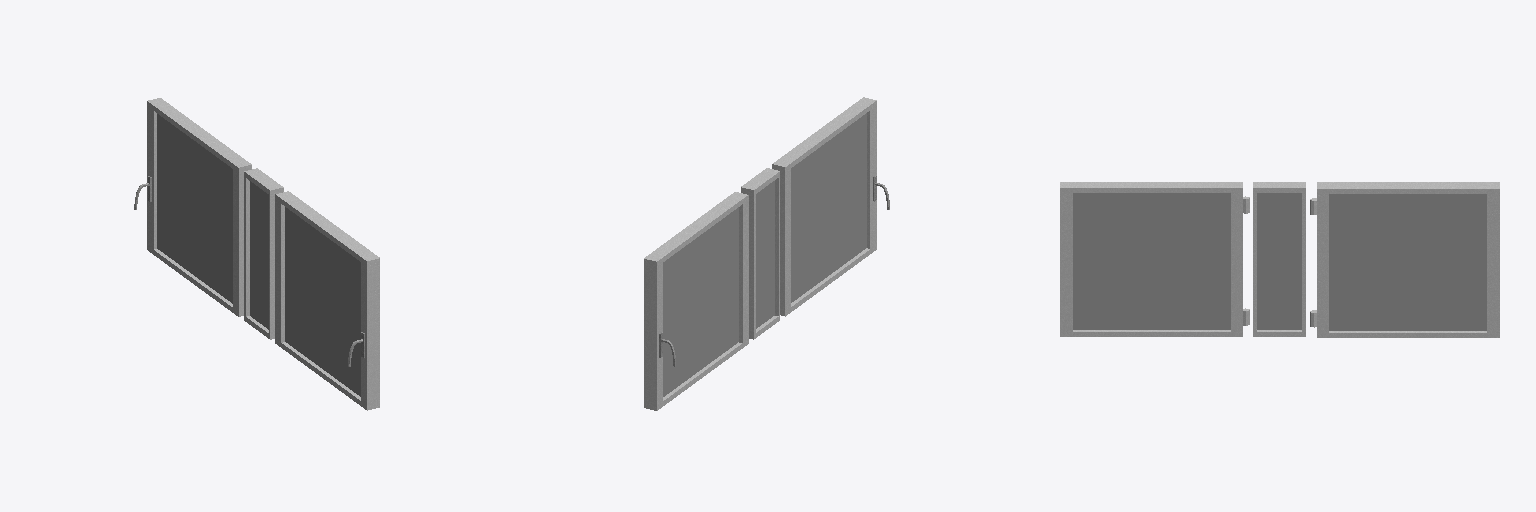
3 renders of one model, left to right at view 1: azimuth 30°, elevation 25°; view 2: azimuth 150°, elevation 25°; view 3: azimuth 270°, elevation 25°, orthographic.
Visible parts, largest first — view 1: Cube.007_Cube.011, Cube.001_Cube.010, Cube_Cube.001, Cube.009, Cube.010_Cube.012, Cube.008_Cube.003; view 2: Cube.001_Cube.010, Cube.007_Cube.011, Cube.009, Cube_Cube.001, Cube.010_Cube.012, Cube.008_Cube.003; view 3: Cube.007_Cube.011, Cube.001_Cube.010, Cube.009, Cube_Cube.001, Cube.010_Cube.012, Cube.008_Cube.003.
Part boxes in pixels (left/top/right/bottom): Cube.007_Cube.011: left=157, top=114, right=232, bottom=303; Cube.001_Cube.010: left=285, top=207, right=360, bottom=396; Cube_Cube.001: left=275, top=191, right=379, bottom=410; Cube.009: left=147, top=98, right=251, bottom=316; Cube.010_Cube.012: left=250, top=181, right=268, bottom=329; Cube.008_Cube.003: left=244, top=168, right=283, bottom=339; Cube.001_Cube.010: left=791, top=113, right=866, bottom=302; Cube.007_Cube.011: left=663, top=207, right=738, bottom=396; Cube.009: left=644, top=192, right=748, bottom=410; Cube_Cube.001: left=772, top=97, right=876, bottom=316; Cube.010_Cube.012: left=756, top=181, right=774, bottom=328; Cube.008_Cube.003: left=741, top=168, right=779, bottom=339; Cube.007_Cube.011: left=1329, top=194, right=1486, bottom=330; Cube.001_Cube.010: left=1073, top=193, right=1230, bottom=329; Cube.009: left=1310, top=182, right=1499, bottom=337; Cube_Cube.001: left=1060, top=182, right=1249, bottom=336; Cube.010_Cube.012: left=1257, top=193, right=1301, bottom=329; Cube.008_Cube.003: left=1253, top=182, right=1305, bottom=336.
Size of the model in its own units: 0.0601 by 0.2854 by 0.7597.
Materials: 8 (2 with a texture image).